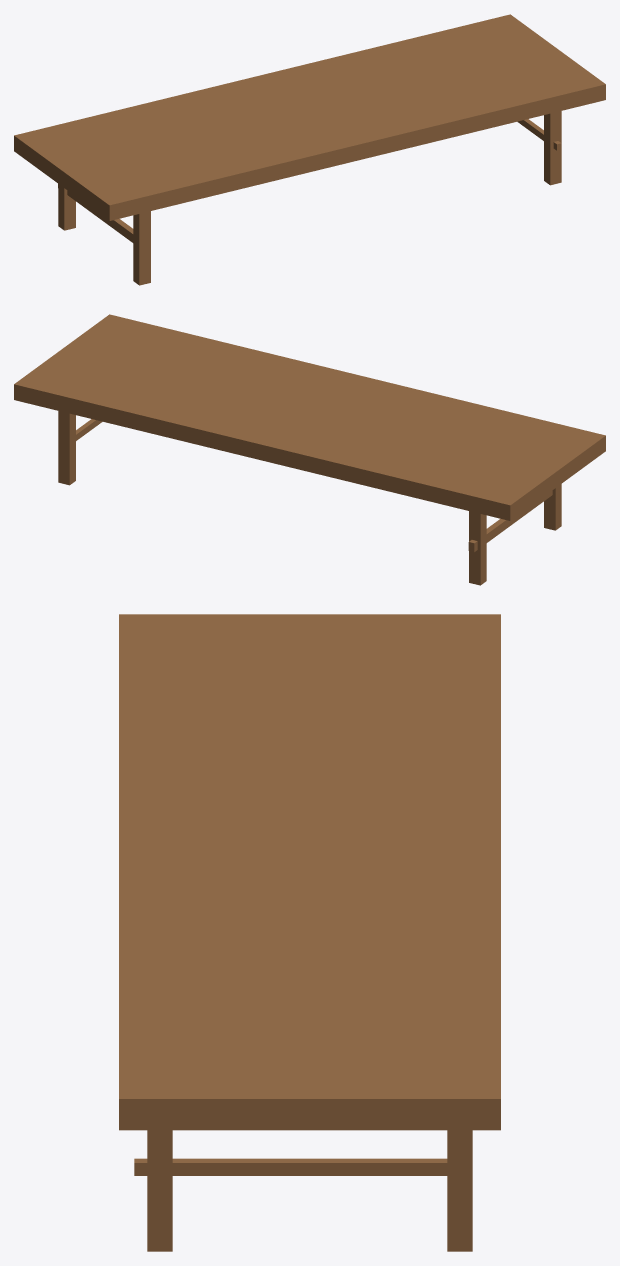
Rendered from Table.fbx.
The picture shows the model from 3 angles, top to bottom: view 1: azimuth 30°, elevation 25°; view 2: azimuth 150°, elevation 25°; view 3: azimuth 270°, elevation 25°; orthographic projection. The views are drawn at different scales.
Parts seen in each view (by area): view 1: Table; view 2: Table; view 3: Table.
Part boxes in pixels (bbox=[...]): Table: bbox=[14, 14, 605, 285]; Table: bbox=[14, 314, 605, 585]; Table: bbox=[119, 614, 500, 1251].
Bounding box in the file's own units: 6 × 2 × 1.09.
